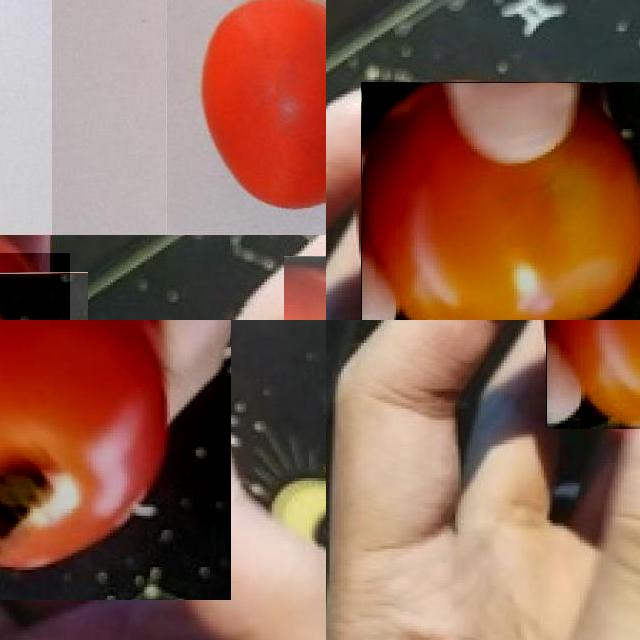0: (0, 320, 231, 600)
Fresh Tomato: (361, 82, 640, 320), (166, 0, 326, 235)
